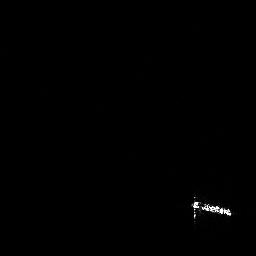ship: (189, 194, 233, 225)
